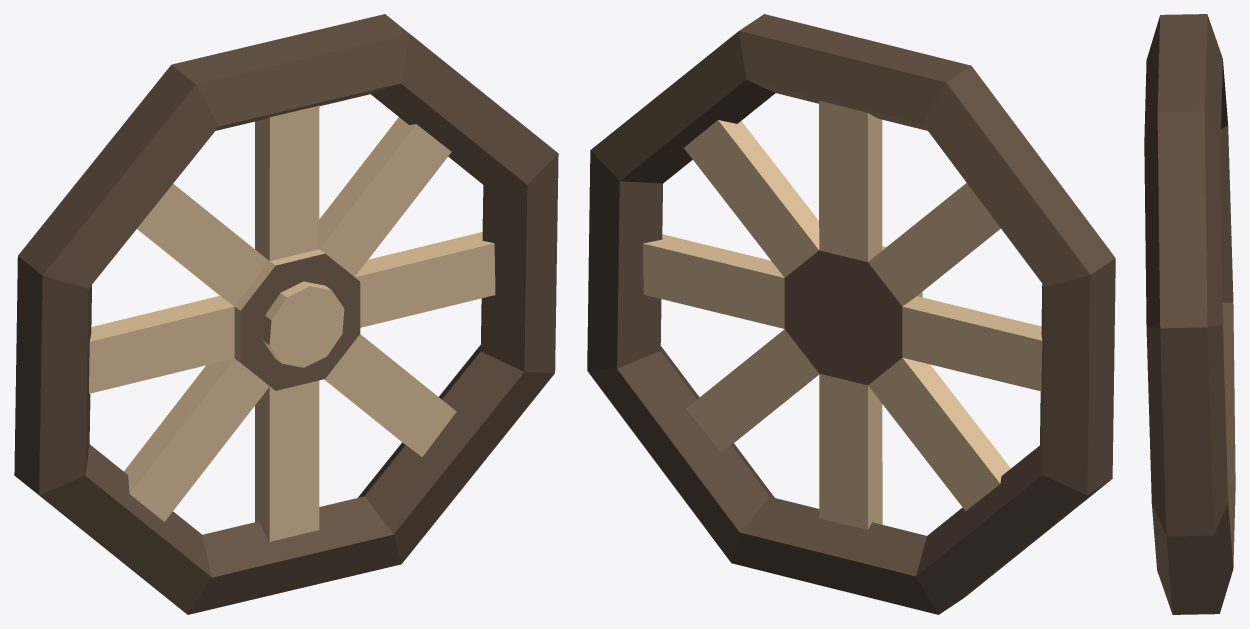
File: Rodinha.fbx
3 renders of one model, left to right at view 1: azimuth 30°, elevation 25°; view 2: azimuth 150°, elevation 25°; view 3: azimuth 270°, elevation 25°, orthographic. The views are drawn at different scales.
Parts seen in each view (by area): view 1: pTorus2; view 2: pTorus2; view 3: pTorus2.
Part boxes in pixels (x1,y1,x2,y2): pTorus2: (14,14,558,614); pTorus2: (587,14,1115,614); pTorus2: (1144,14,1235,614).
Bounding box in the file's own units: 3.2 × 3.2 × 0.5251.
